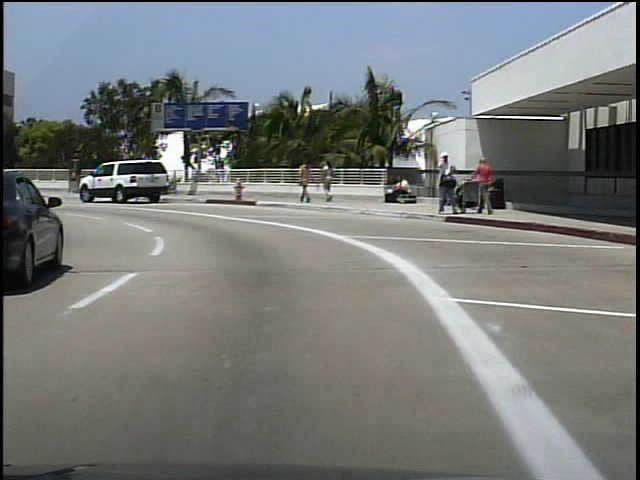person: (436, 150, 461, 221), (475, 155, 497, 216), (298, 157, 315, 206), (318, 160, 334, 208), (387, 176, 410, 205)
